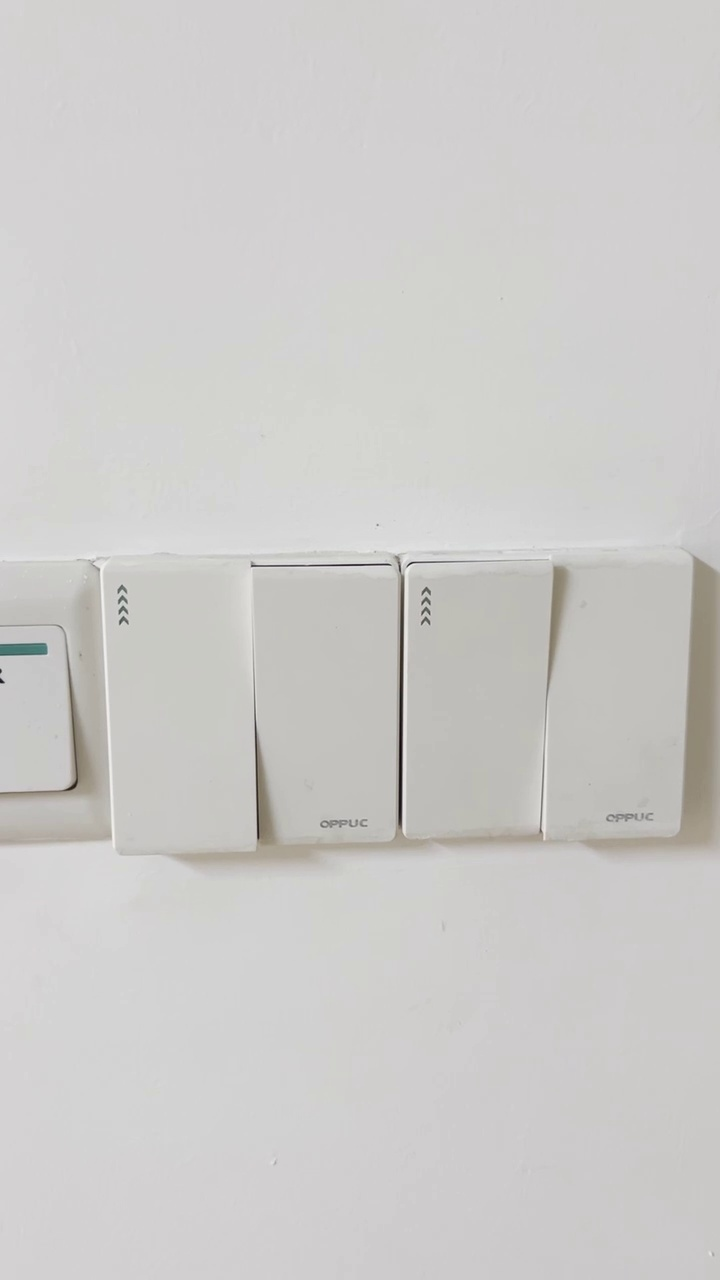button1: (102, 561, 258, 853), (256, 569, 397, 841), (547, 559, 683, 832), (407, 568, 543, 830)
